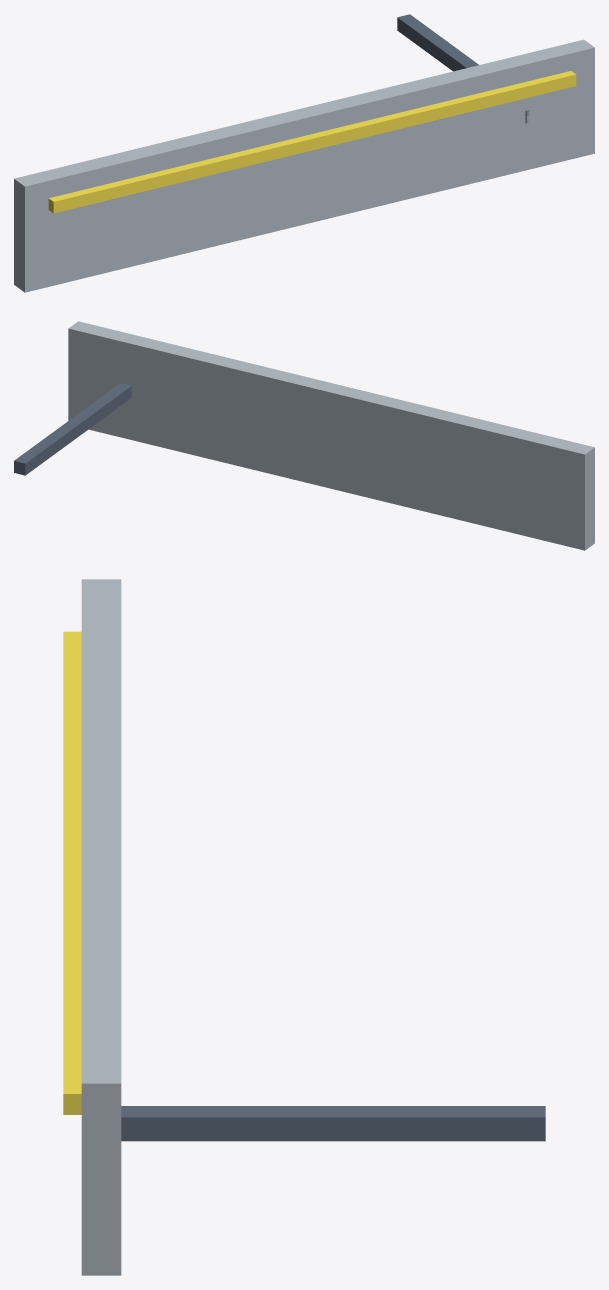
Rendered from cable_tray.glb.
3 views of the same model, one above another, from view 1: azimuth 30°, elevation 25°; view 2: azimuth 150°, elevation 25°; view 3: azimuth 270°, elevation 25° (orthographic). The views are drawn at different scales.
Parts seen in each view (by area): view 1: tray, cable, support; view 2: tray, support; view 3: tray, support, cable.
Part boxes in pixels (x1=…): tray: x1=14, y1=39, x2=594, y2=292; cable: x1=48, y1=71, x2=576, y2=213; support: x1=397, y1=14, x2=529, y2=123; tray: x1=68, y1=321, x2=594, y2=550; support: x1=14, y1=383, x2=131, y2=475; tray: x1=81, y1=579, x2=121, y2=1275; support: x1=121, y1=1106, x2=545, y2=1141; cable: x1=63, y1=631, x2=81, y2=1114.
Size of the model in its own units: 1.8 by 0.32 by 0.7275.
